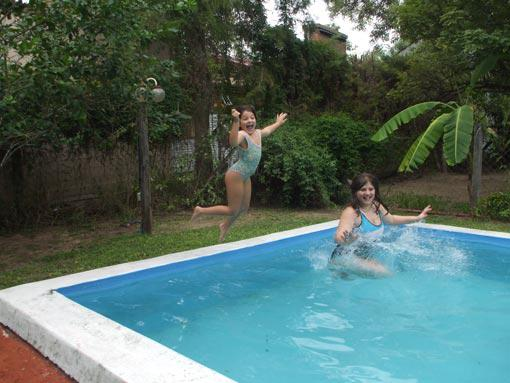swimmer: (336, 170, 428, 276)
